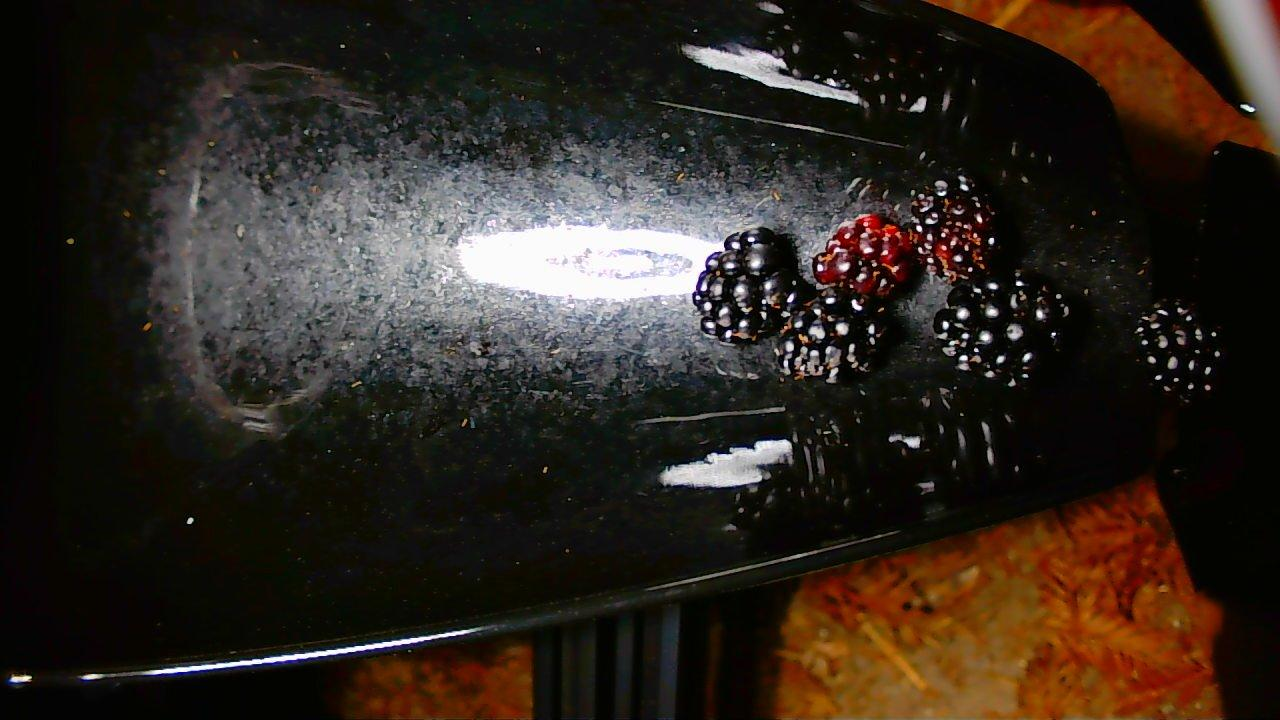berry: (934, 271, 1072, 386), (691, 227, 800, 343), (776, 288, 885, 383), (908, 173, 1002, 281), (1135, 299, 1222, 404), (813, 214, 915, 297)
